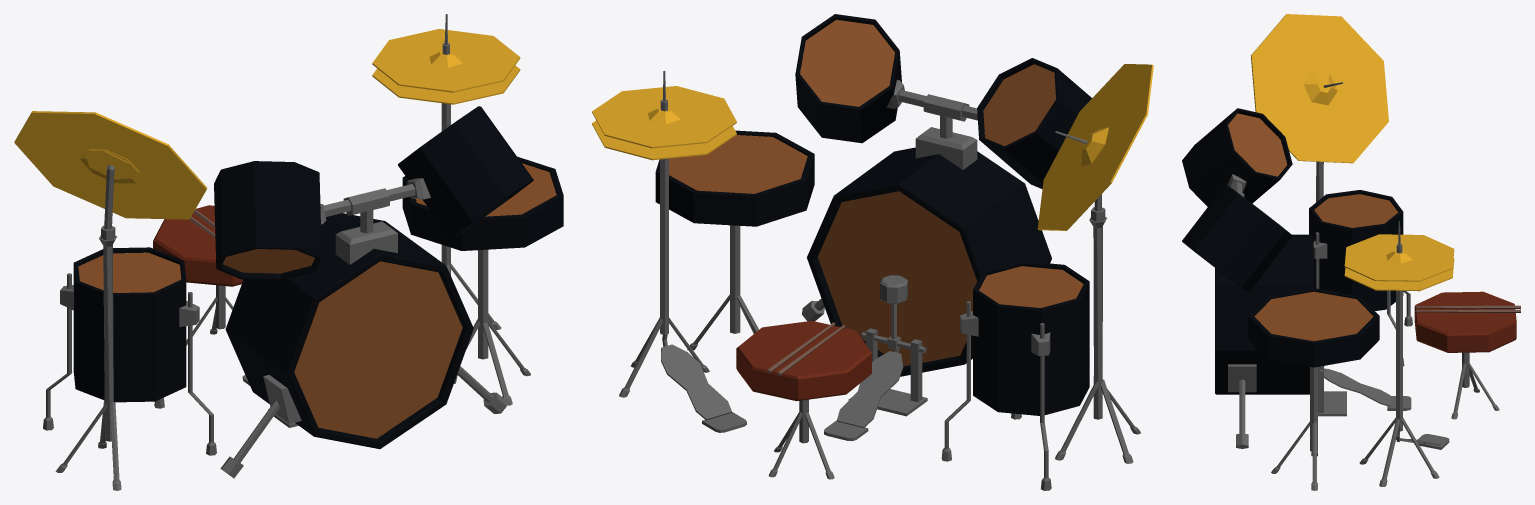
File: pp-zsky-drum-set.glb
3 views of the same model, side by side, from view 1: azimuth 30°, elevation 25°; view 2: azimuth 150°, elevation 25°; view 3: azimuth 270°, elevation 25° (orthographic). The views are drawn at different scales.
Parts seen in each view (by area): view 1: DrumSet1; view 2: DrumSet1; view 3: DrumSet1.
Boxes of the visible parts, <box> form: DrumSet1: <box>14,14,563,490</box>; DrumSet1: <box>592,14,1153,490</box>; DrumSet1: <box>1182,14,1520,490</box>.
Bounding box in the file's own units: 2.44 × 1.75 × 1.78.
